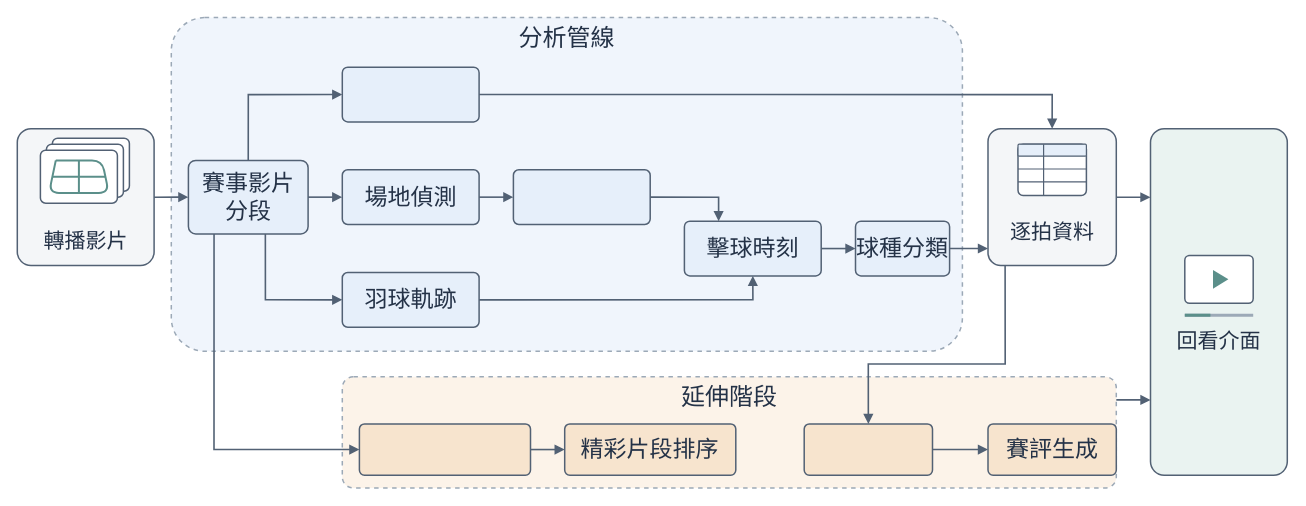
Some shapes in this 1306 by 506 pixel diagram are drawn without their labels. Here are the shapes that lost their labels. From the top down, the box of each, then its label:
(341, 66, 479, 122): 比分辨識
(512, 169, 650, 225): 球員骨架
(358, 423, 531, 476): 歡呼偵測
(803, 423, 933, 476): 球員身分
